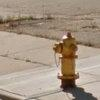Hydrant: (39, 26, 83, 90)
